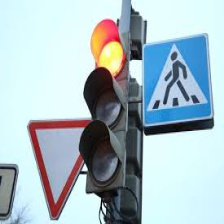semaforo: (79, 19, 130, 194)
